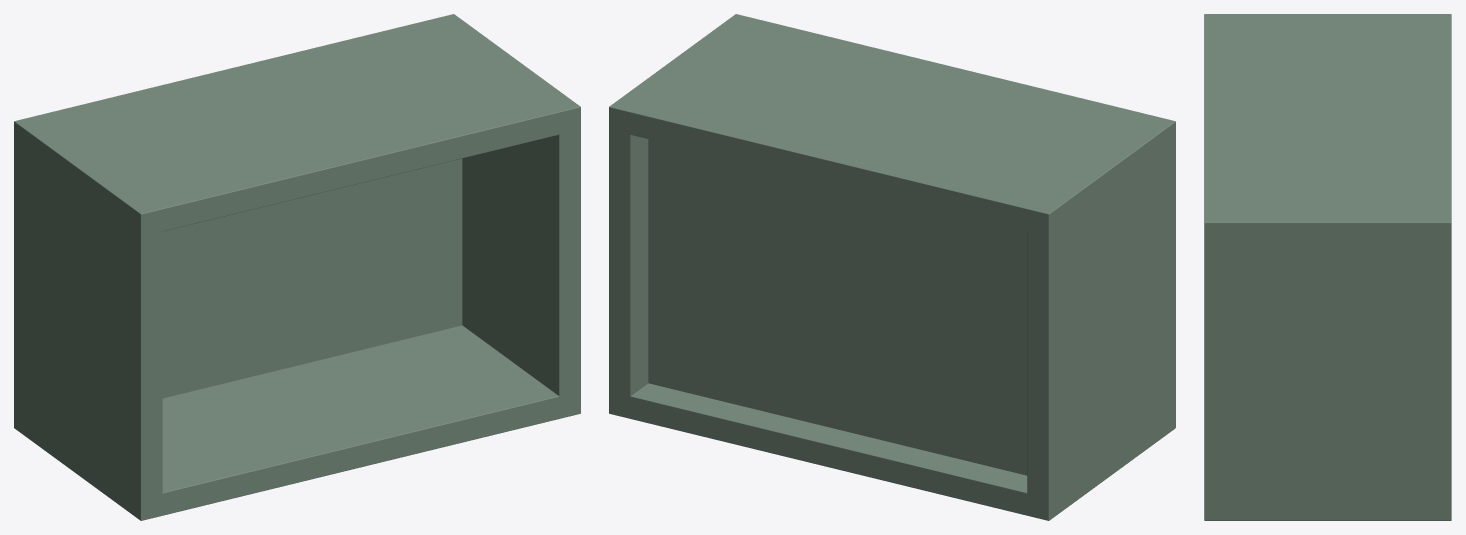
The model's file is MODH_1X07_A_B_VA.glb.
3 renders of one model, left to right at view 1: azimuth 30°, elevation 25°; view 2: azimuth 150°, elevation 25°; view 3: azimuth 270°, elevation 25°, orthographic. The views are drawn at different scales.
Size of the model in its own units: 360 by 240 by 180.
